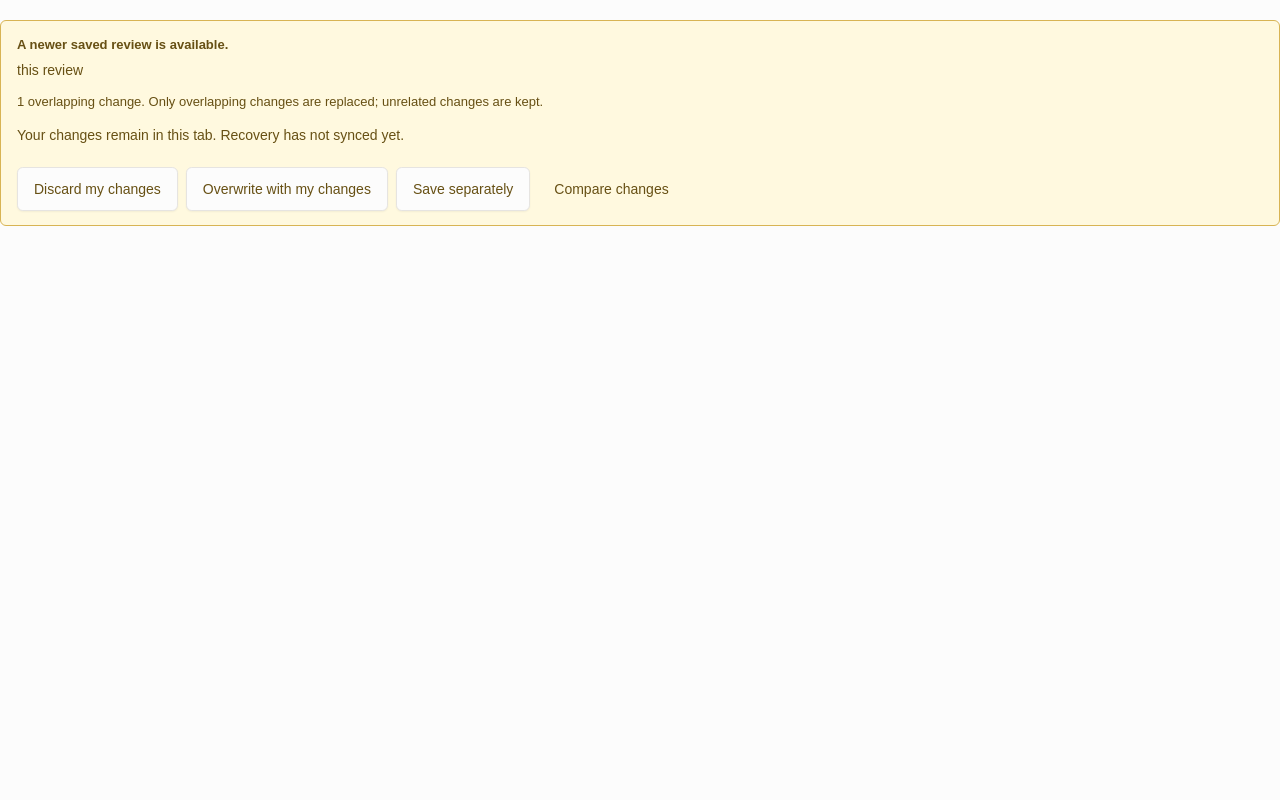
Scenario: friendly History decisions preserve the exact conflict identity used for confirmation
The image size is (1280, 800).
Later steps or results of the test are not shown.
Click the button "Compare changes".
click(612, 189)  # box [538,167,685,211]
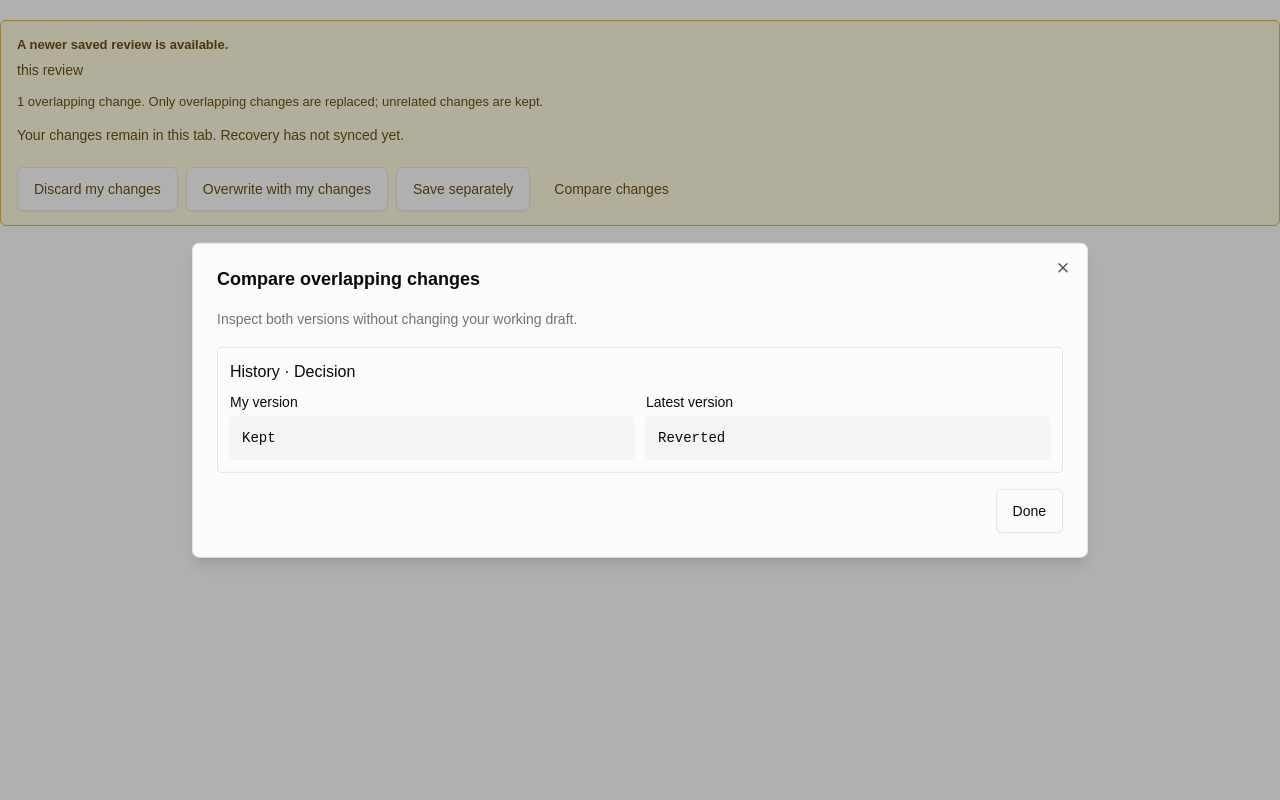
Expected: the text "History · Decision" is shown, [230,362,355,379]
